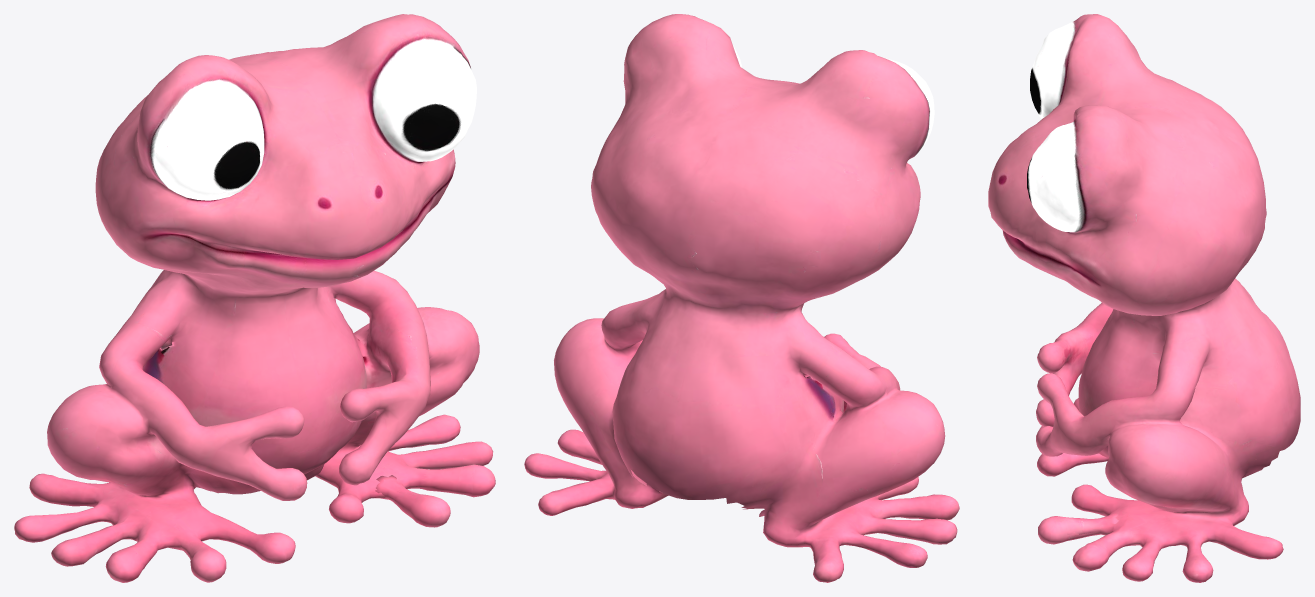
The model's file is frog_pink_v1.glb.
The picture shows the model from 3 angles, left to right: view 1: azimuth 30°, elevation 25°; view 2: azimuth 150°, elevation 25°; view 3: azimuth 270°, elevation 25°; orthographic projection. The views are drawn at different scales.
Size of the model in its own units: 1.77 by 1.9 by 1.23.
Materials: 1 (1 with a texture image).
